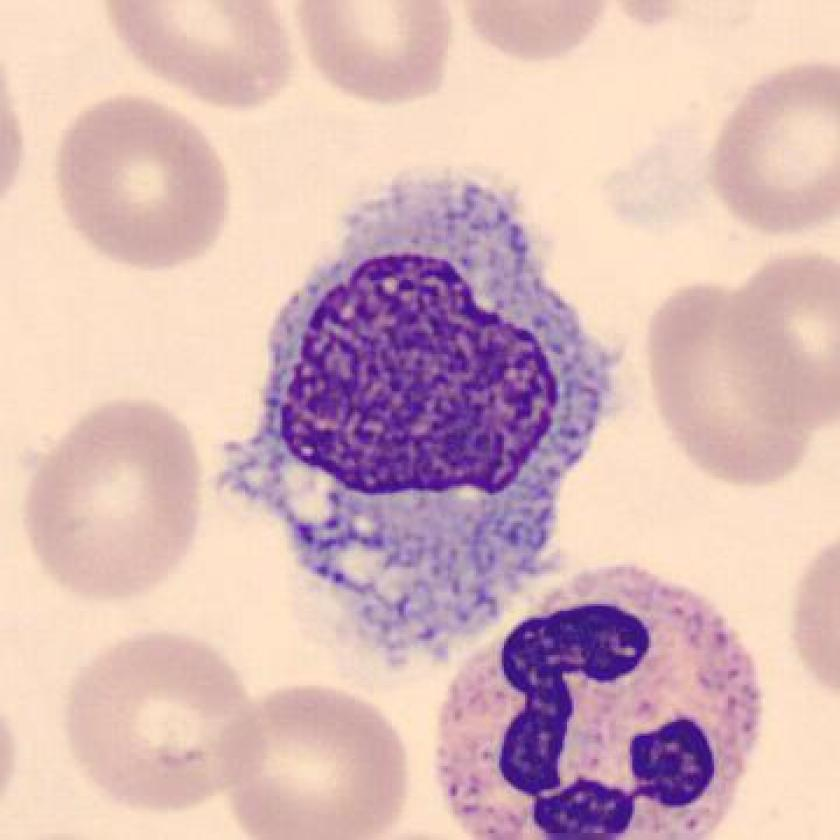monocyte: (195, 142, 640, 695)
